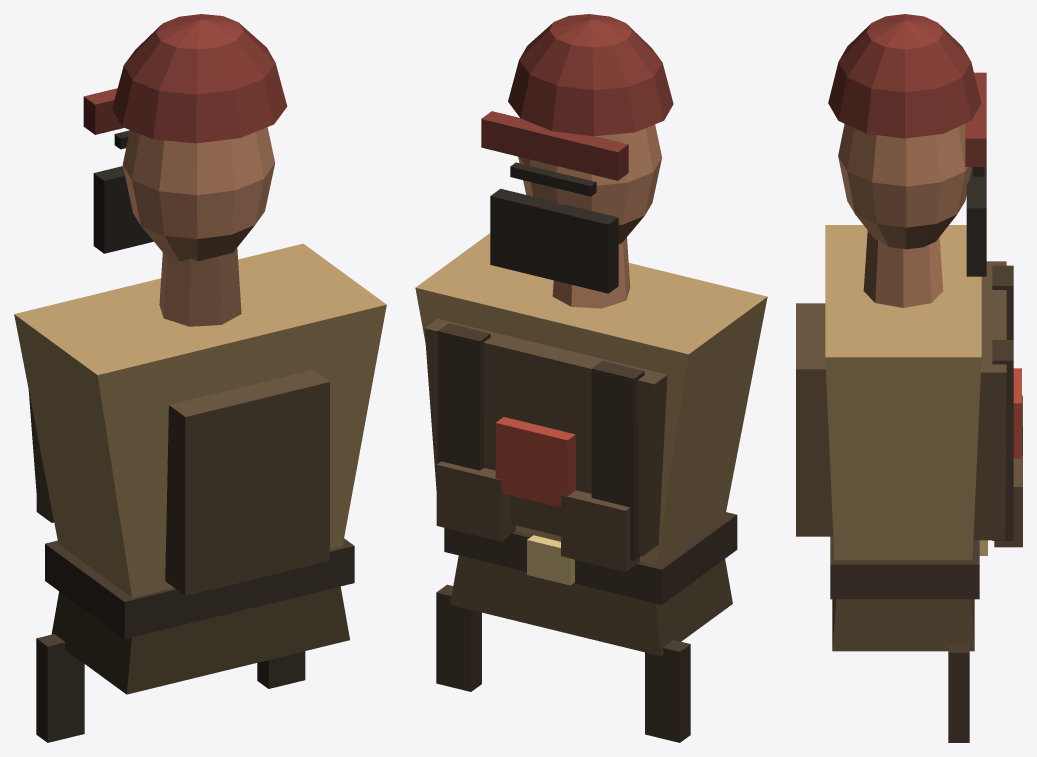
The model's file is terrorist_torso.obj.
The picture shows the model from 3 angles, left to right: view 1: azimuth 30°, elevation 25°; view 2: azimuth 150°, elevation 25°; view 3: azimuth 270°, elevation 25°; orthographic projection. The views are drawn at different scales.
Visible parts, largest first — view 1: terrorist_torso; view 2: terrorist_torso; view 3: terrorist_torso.
Part boxes in pixels (bbox=[...]): terrorist_torso: bbox=[14, 14, 386, 742]; terrorist_torso: bbox=[415, 14, 767, 742]; terrorist_torso: bbox=[796, 14, 1022, 742].
Bounding box in the file's own units: 22 × 51.5 × 15.95.
1 material, 1 textured.
